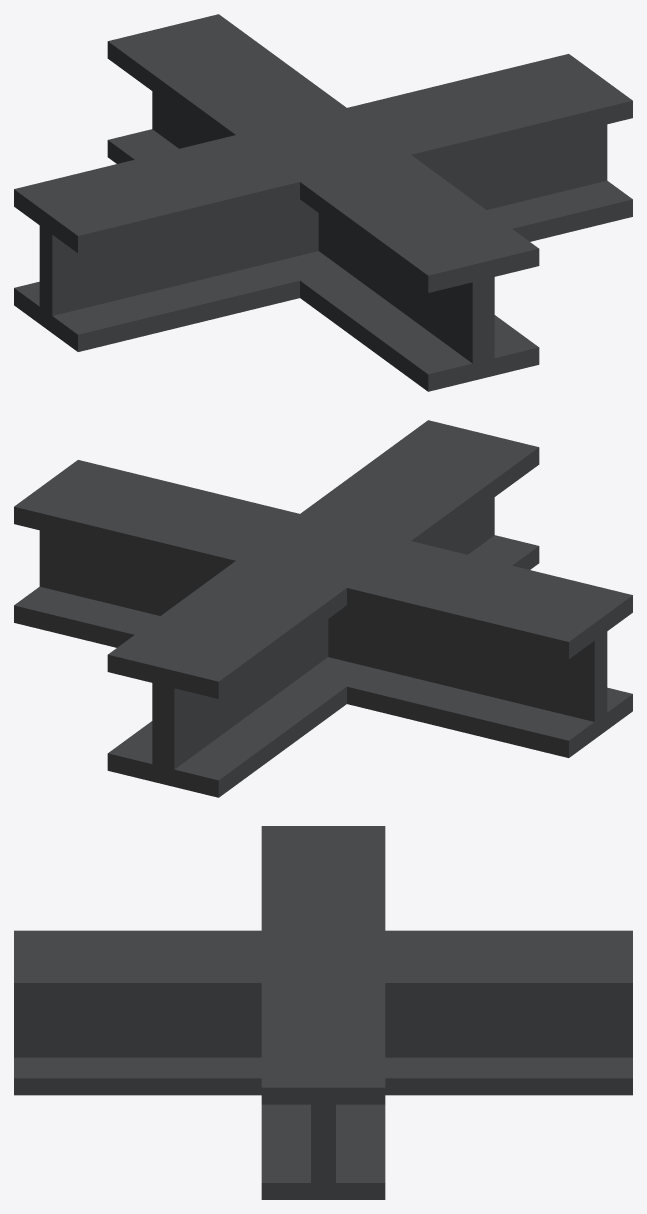
The model's file is T_Träger_X.obj.
The picture shows the model from 3 angles, top to bottom: view 1: azimuth 30°, elevation 25°; view 2: azimuth 150°, elevation 25°; view 3: azimuth 270°, elevation 25°; orthographic projection. The views are drawn at different scales.
Visible parts, largest first — view 1: T-Träger_3; view 2: T-Träger_3; view 3: T-Träger_3.
Part boxes in pixels (x1=…): T-Träger_3: x1=14, y1=14, x2=632, y2=391; T-Träger_3: x1=14, y1=420, x2=632, y2=797; T-Träger_3: x1=14, y1=826, x2=632, y2=1199.
Size of the model in its own units: 2 by 0.4 by 2.
